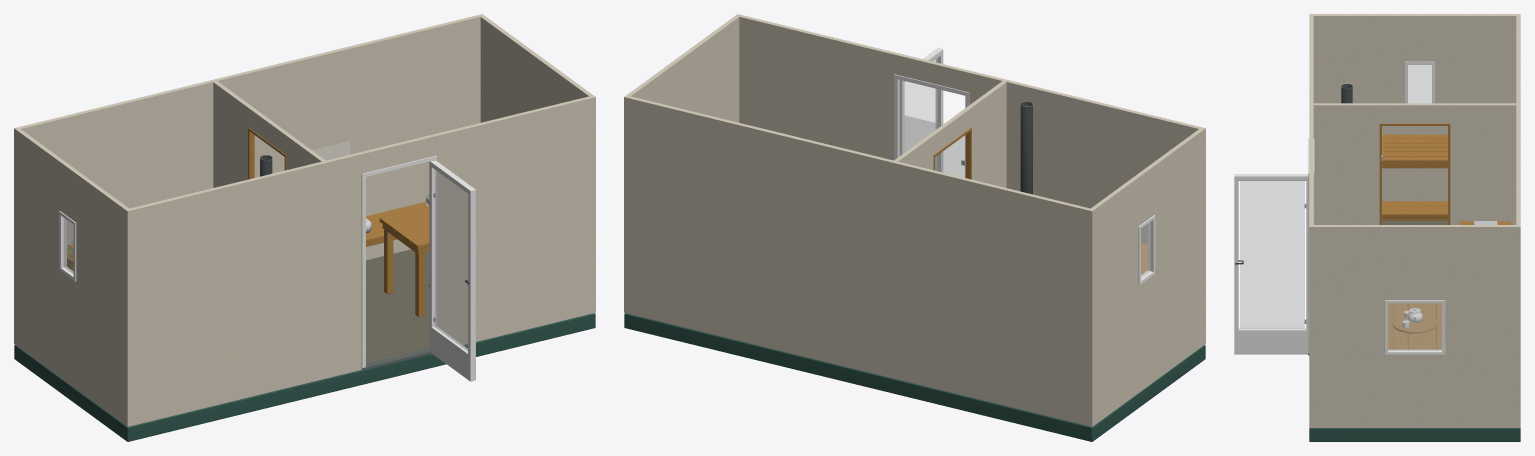
3 renders of one model, left to right at view 1: azimuth 30°, elevation 25°; view 2: azimuth 150°, elevation 25°; view 3: azimuth 270°, elevation 25°, orthographic. The views are drawn at different scales.
Parts seen in each view (by area): view 1: Wall front band 2, Wall rear band 7, Wall front band 7, Wall front band 4, Wall front band 5, Wall front band 6, Wall front band 1, Wall front band 8, Wall rear band 6, Wall rear band 8, Foundation, Wall rear band 5 (+26 smaller); view 2: Wall rear band 2, Wall rear band 7, Wall rear band 4, Wall rear band 5, Wall rear band 6, Wall rear band 1, Wall rear band 8, Wall front band 8, Wall front band 7, Foundation, Wall front band 6, Wall front band 5 (+21 smaller); view 3: Single PVC glass panel, Wall right band 2, Wall left band 7, Wall right band 7, Wall right band 6, Wall right band 1, Wall left band 6, Wall top_2_0003 band 8, Wall left band 8, Wall right band 8, Wall right band 4, Wall right band 5 (+38 smaller).
Boxes of the visible parts, bbox=[...] form: Wall front band 2: bbox=[125, 239, 595, 385]; Wall rear band 7: bbox=[14, 36, 480, 178]; Wall front band 7: bbox=[125, 116, 595, 260]; Wall front band 4: bbox=[125, 205, 595, 348]; Wall front band 5: bbox=[125, 175, 595, 318]; Wall front band 6: bbox=[125, 146, 595, 289]; Wall front band 1: bbox=[125, 271, 595, 413]; Wall front band 8: bbox=[125, 95, 595, 230]; Wall rear band 6: bbox=[14, 66, 480, 208]; Wall rear band 8: bbox=[14, 14, 484, 149]; Foundation: bbox=[14, 313, 595, 441]; Wall rear band 5: bbox=[14, 95, 480, 237]; Wall rear band 2: bbox=[624, 239, 1094, 385]; Wall rear band 7: bbox=[624, 116, 1094, 260]; Wall rear band 4: bbox=[624, 205, 1094, 348]; Wall rear band 5: bbox=[624, 175, 1094, 318]; Wall rear band 6: bbox=[624, 146, 1094, 289]; Wall rear band 1: bbox=[624, 271, 1094, 413]; Wall rear band 8: bbox=[624, 95, 1094, 230]; Wall front band 8: bbox=[735, 14, 1205, 149]; Wall front band 7: bbox=[739, 36, 1205, 178]; Foundation: bbox=[624, 313, 1205, 441]; Wall front band 6: bbox=[739, 66, 1205, 208]; Wall front band 5: bbox=[739, 95, 1205, 237]; Single PVC glass panel: bbox=[1240, 181, 1304, 328]; Wall right band 2: bbox=[1313, 359, 1516, 389]; Wall left band 7: bbox=[1313, 34, 1516, 61]; Wall right band 7: bbox=[1313, 245, 1516, 272]; Wall right band 6: bbox=[1313, 272, 1516, 299]; Wall right band 1: bbox=[1313, 389, 1516, 415]; Wall left band 6: bbox=[1313, 61, 1516, 88]; Wall top_2_0003 band 8: bbox=[1313, 103, 1516, 123]; Wall left band 8: bbox=[1313, 14, 1516, 34]; Wall right band 8: bbox=[1313, 225, 1516, 245]; Wall right band 4: bbox=[1313, 327, 1516, 354]; Wall right band 5: bbox=[1313, 300, 1516, 327].
Size of the model in its own units: 5.02 by 2.36 by 2.84.
33 materials, 14 textured.
